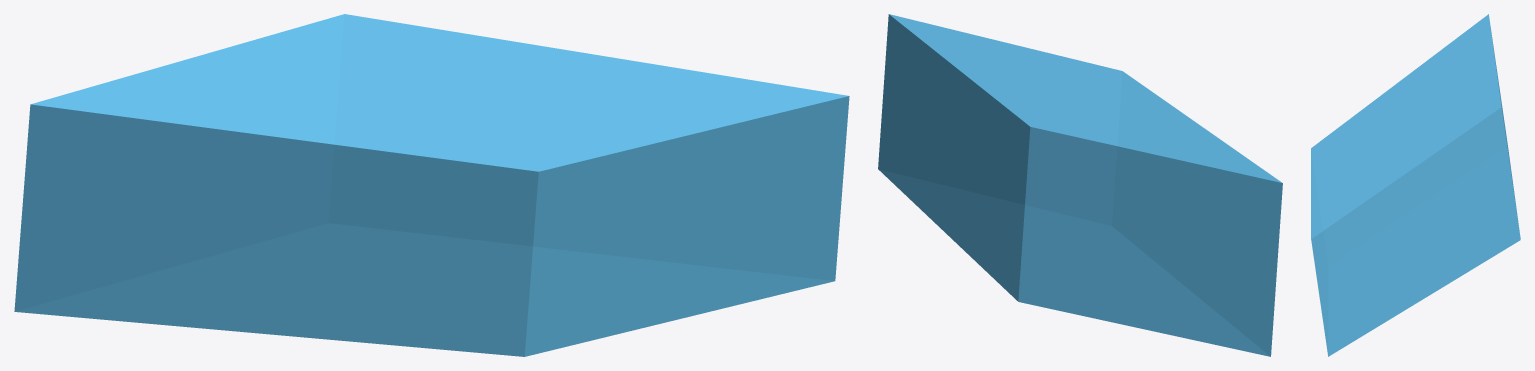
The model's file is Event_421115418_HBrechit_18.fbx.
3 views of the same model, side by side, from view 1: azimuth 30°, elevation 25°; view 2: azimuth 150°, elevation 25°; view 3: azimuth 270°, elevation 25° (orthographic). The views are drawn at different scales.
Parts seen in each view (by area): view 1: Model; view 2: Model; view 3: Model.
Boxes of the visible parts, x1,y1,x2,y2 form: Model: (14, 14, 849, 356); Model: (878, 14, 1282, 356); Model: (1311, 14, 1520, 356).
Size of the model in its own units: 1.43 by 0.5013 by 0.6435.
